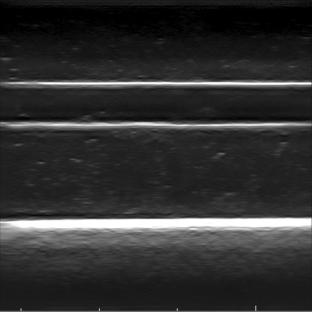vessel: (3, 78, 309, 130)
